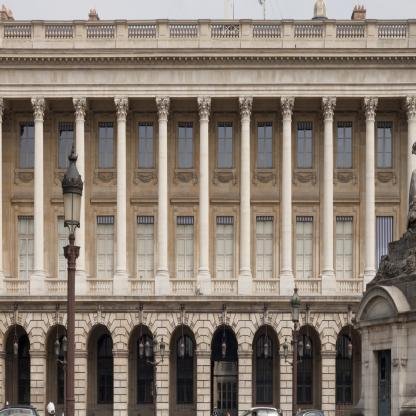Balcony: (0, 18, 416, 53), (85, 277, 114, 301), (2, 278, 31, 301), (378, 278, 405, 302), (336, 278, 363, 302), (210, 278, 238, 301), (252, 278, 280, 301), (294, 278, 322, 301), (44, 278, 73, 300), (128, 279, 155, 302), (169, 278, 196, 301)
Building Outline: (0, 19, 416, 416)
Cornice: (370, 197, 401, 204), (250, 197, 280, 204), (290, 197, 320, 204), (330, 197, 360, 204), (210, 197, 240, 204), (170, 197, 200, 204), (90, 197, 120, 203), (130, 197, 160, 203)
Door: (335, 324, 364, 416), (2, 324, 31, 416), (251, 324, 280, 416), (293, 324, 322, 416), (210, 324, 239, 416), (168, 324, 197, 416), (85, 324, 114, 416), (43, 324, 72, 416), (127, 324, 155, 416), (376, 235, 393, 294), (217, 235, 234, 294), (256, 235, 273, 294), (296, 235, 313, 294), (336, 235, 353, 294), (177, 235, 194, 294), (137, 235, 154, 294), (97, 235, 114, 294), (57, 235, 74, 294), (18, 235, 35, 293)
Facade: (1, 53, 415, 415)
Floor: (0, 197, 416, 302)
Floor Slab: (0, 50, 416, 57), (0, 190, 416, 197), (0, 295, 416, 302)
Ground Floor: (0, 302, 416, 416)
Molding: (0, 49, 416, 68)
Pillar: (30, 95, 48, 294), (113, 96, 131, 294), (155, 96, 173, 294), (72, 96, 89, 294), (362, 96, 379, 294), (196, 96, 212, 294), (279, 96, 295, 294), (321, 96, 337, 294), (238, 96, 253, 294), (28, 350, 48, 416), (69, 350, 89, 416), (111, 350, 130, 416), (153, 350, 171, 416), (195, 350, 212, 416), (278, 350, 295, 416), (320, 350, 337, 416), (237, 350, 253, 416)
Sill: (373, 168, 396, 186), (333, 168, 356, 186), (253, 169, 276, 186), (15, 168, 38, 185), (174, 168, 197, 185), (293, 168, 316, 185), (134, 168, 157, 185), (94, 168, 117, 185), (54, 168, 77, 185), (214, 169, 236, 186)
Top Floor: (0, 83, 416, 197)
Window: (18, 334, 35, 404), (137, 334, 154, 404), (97, 334, 114, 404), (256, 334, 273, 404), (336, 335, 353, 404), (57, 335, 74, 404), (296, 335, 313, 404), (177, 334, 193, 404), (377, 122, 393, 168), (58, 122, 74, 168), (138, 122, 154, 168), (217, 122, 233, 168), (257, 122, 273, 168), (297, 122, 313, 168), (337, 122, 353, 168), (19, 122, 34, 168), (98, 122, 113, 168), (178, 122, 193, 168), (376, 216, 393, 235), (18, 216, 35, 235), (296, 216, 313, 235), (177, 216, 194, 235), (256, 216, 273, 235), (217, 216, 234, 235), (137, 216, 154, 235), (97, 216, 114, 235), (57, 216, 74, 235)
dont: (59, 143, 85, 416), (290, 280, 301, 416), (0, 405, 40, 416), (240, 407, 283, 416), (296, 408, 325, 416), (46, 402, 55, 416)
